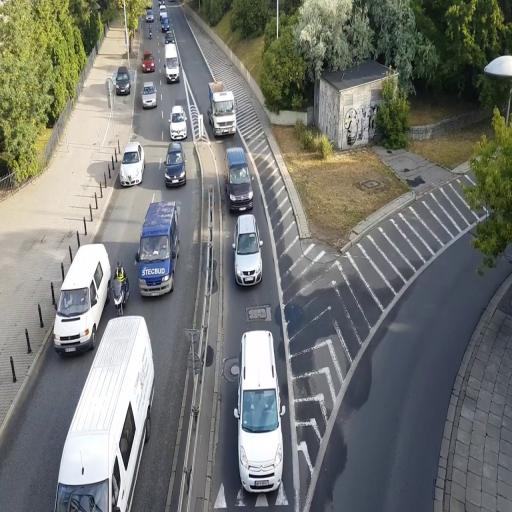vehicle: (54, 314, 155, 509), (237, 329, 283, 494), (52, 241, 112, 356), (52, 242, 112, 356), (137, 199, 180, 299), (137, 198, 180, 298), (233, 213, 263, 287), (226, 146, 254, 215), (206, 82, 237, 138), (120, 138, 144, 186), (163, 143, 186, 188), (110, 264, 130, 311), (170, 103, 188, 141), (114, 68, 131, 96), (141, 81, 157, 108)
